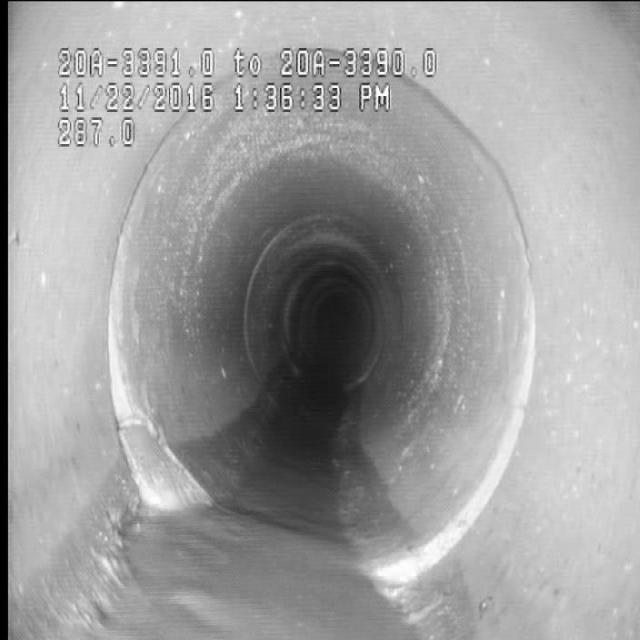Crack: (120, 376, 212, 504)
